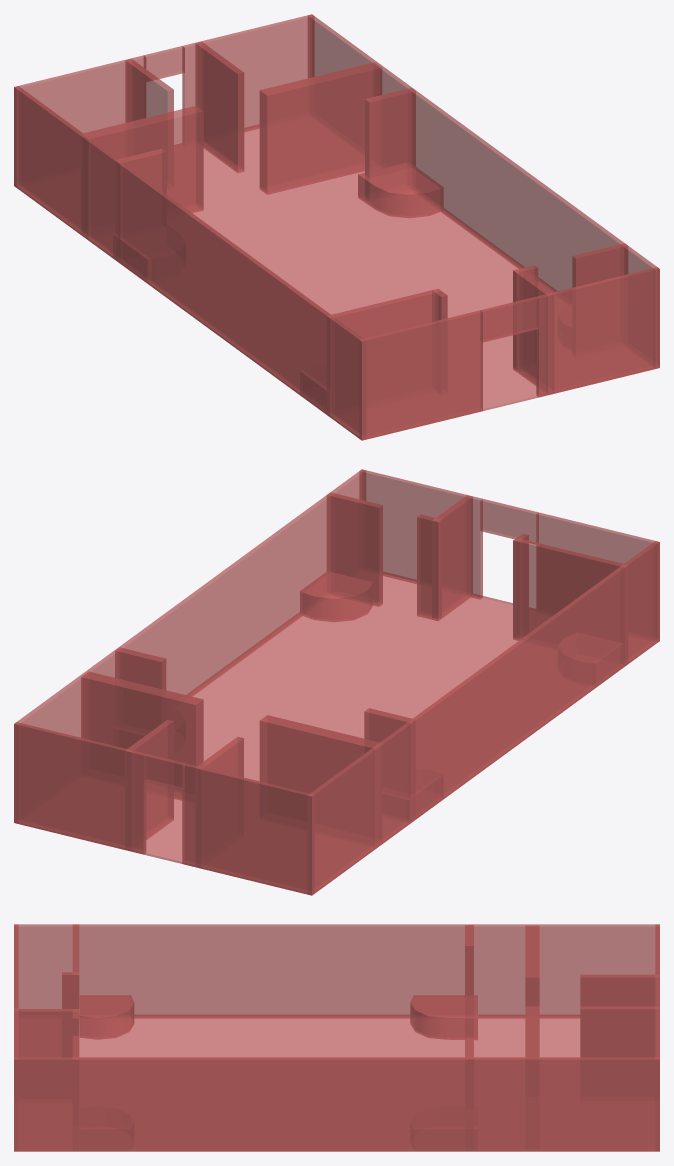
File: SM_Bld_StripClub_Interior_01_Collision.fbx
3 views of the same model, one above another, from view 1: azimuth 30°, elevation 25°; view 2: azimuth 150°, elevation 25°; view 3: azimuth 270°, elevation 25° (orthographic). The views are drawn at different scales.
Parts seen in each view (by area): view 1: SM_Bld_StripClub_Interior_01_Collision; view 2: SM_Bld_StripClub_Interior_01_Collision; view 3: SM_Bld_StripClub_Interior_01_Collision.
Boxes of the visible parts, box(x1,y1,x2,y2) form: SM_Bld_StripClub_Interior_01_Collision: box(14, 14, 659, 440); SM_Bld_StripClub_Interior_01_Collision: box(14, 469, 659, 895); SM_Bld_StripClub_Interior_01_Collision: box(14, 924, 659, 1151).
Size of the model in its own units: 959 by 305 by 1939.
